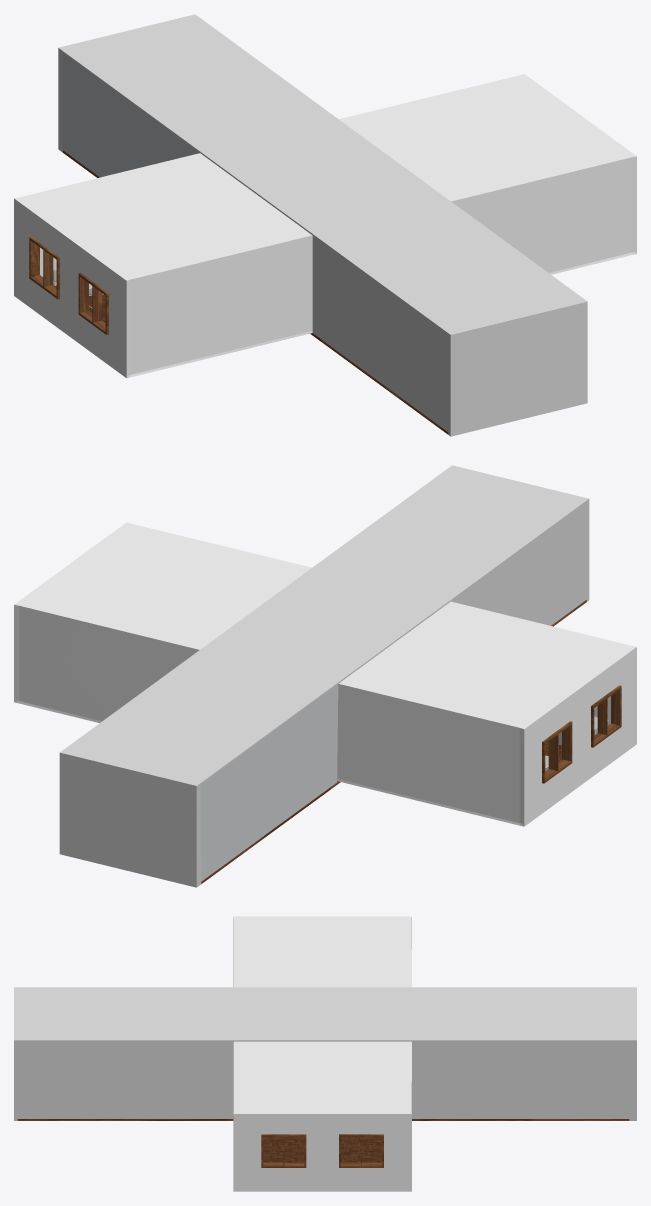
The model's file is ruanganbaru.fbx.
3 views of the same model, one above another, from view 1: azimuth 30°, elevation 25°; view 2: azimuth 150°, elevation 25°; view 3: azimuth 270°, elevation 25° (orthographic). The views are drawn at different scales.
Visible parts, largest first — view 1: Cube.005, Classroom, Classroom.001, Cube.006, Cube.001, Cube.003, Cube.007; view 2: Cube.005, Classroom, Classroom.001, Cube.007, Cube.003, Cube.001, Cube.006; view 3: Cube.005, Classroom.001, Cube.002, Cube, Classroom, Cube.007, Cube.004, Cube.006.
Boxes of the visible parts, x1,y1,x2,y2 form: Cube.005: [63, 18, 584, 334]; Classroom: [14, 153, 312, 378]; Classroom.001: [339, 74, 636, 274]; Cube.006: [448, 300, 587, 436]; Cube.001: [312, 236, 448, 431]; Cube.003: [63, 53, 199, 177]; Cube.007: [58, 14, 199, 152]; Cube.005: [65, 467, 586, 783]; Classroom: [337, 601, 636, 826]; Classroom.001: [14, 522, 311, 723]; Cube.007: [59, 749, 201, 887]; Cube.003: [201, 684, 338, 881]; Cube.001: [451, 502, 586, 625]; Cube.006: [450, 465, 589, 601]; Cube.005: [17, 987, 629, 1041]; Classroom.001: [233, 1041, 411, 1191]; Cube.002: [412, 1041, 629, 1118]; Cube: [17, 1041, 233, 1118]; Classroom: [233, 916, 411, 987]; Cube.007: [629, 987, 636, 1120]; Cube.004: [17, 1117, 629, 1120]; Cube.006: [14, 987, 17, 1120].
Size of the model in its own units: 2374 by 448 by 3136.
